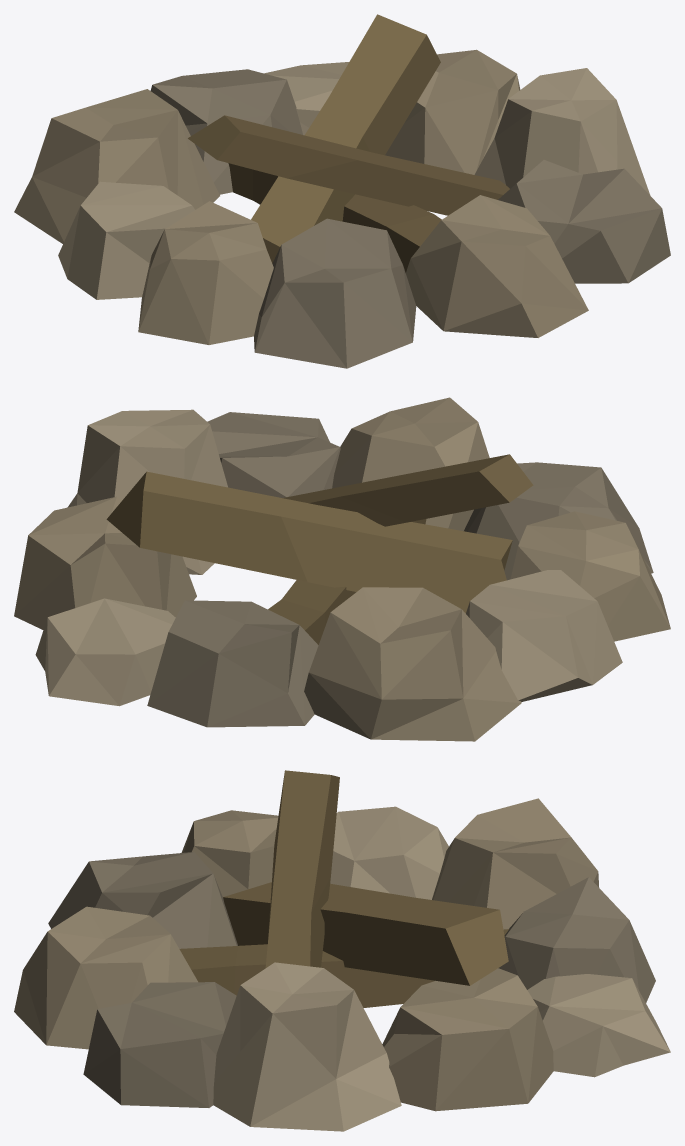
File: Campfire.fbx
3 renders of one model, top to bottom at view 1: azimuth 30°, elevation 25°; view 2: azimuth 150°, elevation 25°; view 3: azimuth 270°, elevation 25°, orthographic. The views are drawn at different scales.
Visible parts, largest first — view 1: Campfire; view 2: Campfire; view 3: Campfire.
Boxes of the visible parts, left/top/right/bottom form: Campfire: left=14, top=14, right=670, bottom=368; Campfire: left=14, top=397, right=670, bottom=741; Campfire: left=14, top=770, right=670, bottom=1131.
Bounding box in the file's own units: 95.31 × 27.05 × 98.58.
